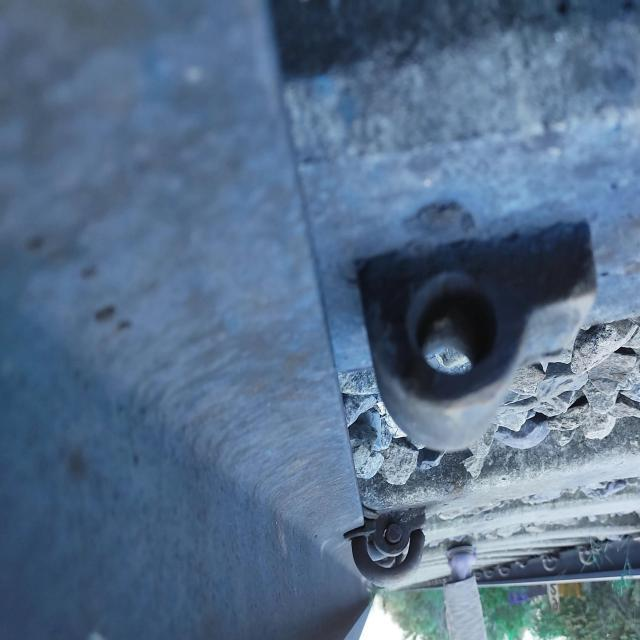Good Fasteners: (345, 506, 425, 588)
Missing Fastener: (330, 180, 608, 457)
